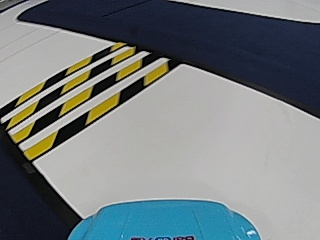bump: (12, 55, 128, 144)
